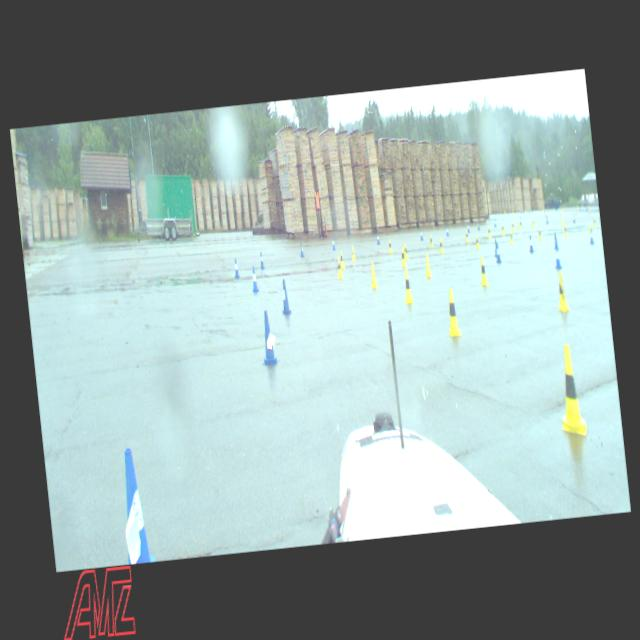blue_cone: (114, 446, 156, 564), (256, 310, 278, 364), (279, 278, 291, 314), (250, 265, 259, 292), (553, 244, 561, 268), (232, 258, 240, 278), (494, 242, 501, 263), (258, 252, 264, 270), (527, 234, 533, 252), (492, 238, 498, 256), (553, 232, 558, 250), (588, 228, 594, 243), (331, 236, 335, 250), (300, 242, 304, 256), (376, 231, 380, 244), (419, 228, 423, 240), (466, 222, 469, 232), (518, 216, 521, 224), (476, 222, 479, 230), (446, 225, 448, 236), (494, 218, 496, 226)
yellow_cone: (553, 343, 587, 436), (444, 288, 461, 336), (554, 270, 570, 311), (402, 268, 414, 304), (478, 256, 488, 284), (368, 260, 378, 288), (424, 252, 432, 276), (335, 255, 343, 278), (339, 250, 345, 269), (400, 247, 406, 266), (402, 242, 408, 259), (350, 244, 356, 260), (474, 233, 480, 248), (438, 237, 444, 252), (508, 227, 513, 244), (464, 228, 468, 242), (537, 227, 541, 240), (563, 224, 567, 237), (388, 240, 392, 252), (428, 234, 432, 246), (501, 221, 504, 235), (592, 217, 596, 227), (586, 222, 590, 232), (487, 224, 490, 237), (560, 216, 564, 224), (511, 221, 514, 231), (517, 220, 520, 228), (532, 218, 534, 226)
